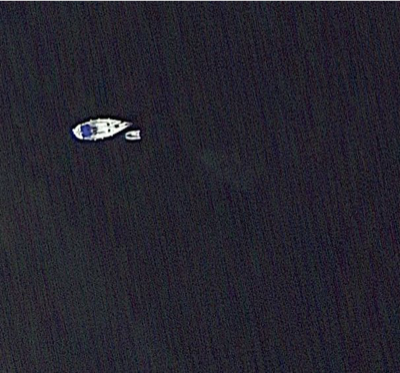boat: (72, 112, 135, 144), (122, 130, 141, 144)
